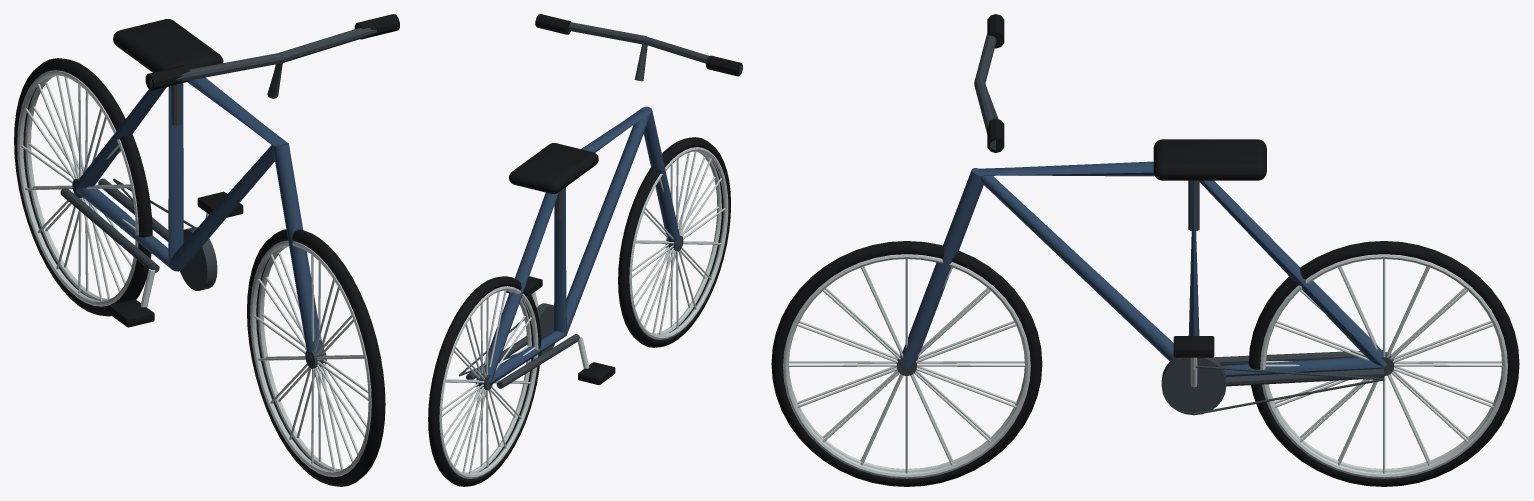
File: bicicleta_montana_base.glb
3 views of the same model, side by side, from view 1: azimuth 30°, elevation 25°; view 2: azimuth 150°, elevation 25°; view 3: azimuth 270°, elevation 25° (orthographic). The views are drawn at different scales.
Visible parts, largest first — view 1: bicicleta_montana_base; view 2: bicicleta_montana_base; view 3: bicicleta_montana_base.
Part boxes in pixels (x1,y1,x2,y2): bicicleta_montana_base: (14,14,399,486); bicicleta_montana_base: (428,14,742,486); bicicleta_montana_base: (771,14,1519,486).
Size of the model in its own units: 0.723 by 1.12 by 1.85.
